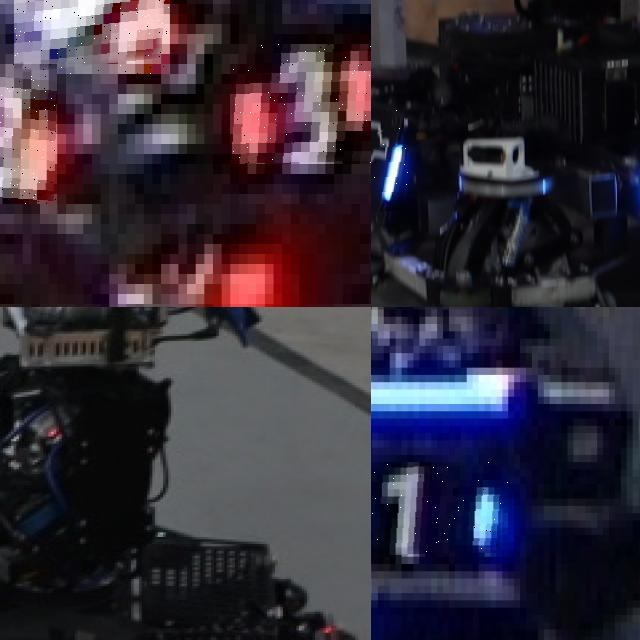B1: (371, 462, 508, 556)
Bs: (371, 110, 410, 212)
R3: (230, 44, 371, 164), (14, 0, 169, 74), (0, 64, 57, 204)
